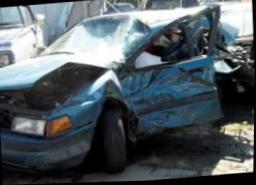Bonnet: (0, 56, 112, 118)
Bumper: (0, 122, 94, 180)
Door: (114, 6, 227, 141), (177, 8, 250, 121)
Fender: (64, 69, 121, 129)
Windshield: (36, 15, 157, 67)
